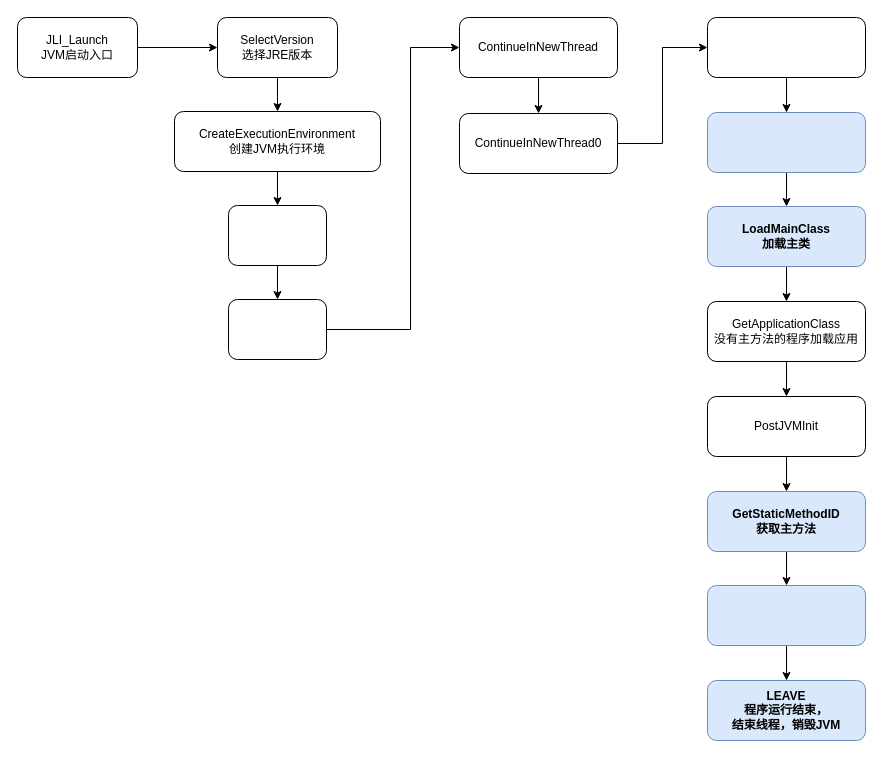
Image size: 883x758. Some labels were removed from this diagram. Each missing label, with the centre of its shape:
"CallStaticVoidMethod 执行主方法" goes at (786,615).
"InitializeJVM 初始化JVM" goes at (786,142).
"JavaMain" goes at (786,47).
"JVMInit JVM初始化" goes at (277,329).
"LoadJavaVM 加载JVM" goes at (277,235).
